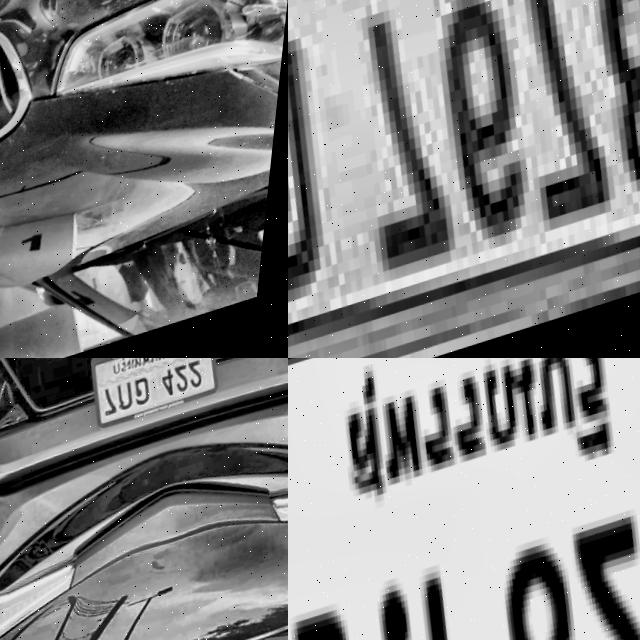license-plate: (288, 0, 640, 358), (288, 358, 640, 640), (86, 358, 228, 437)
